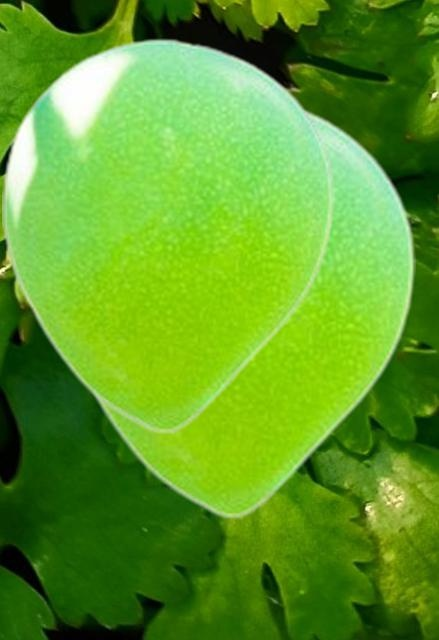green_mango: (86, 103, 414, 519), (2, 37, 333, 434)
